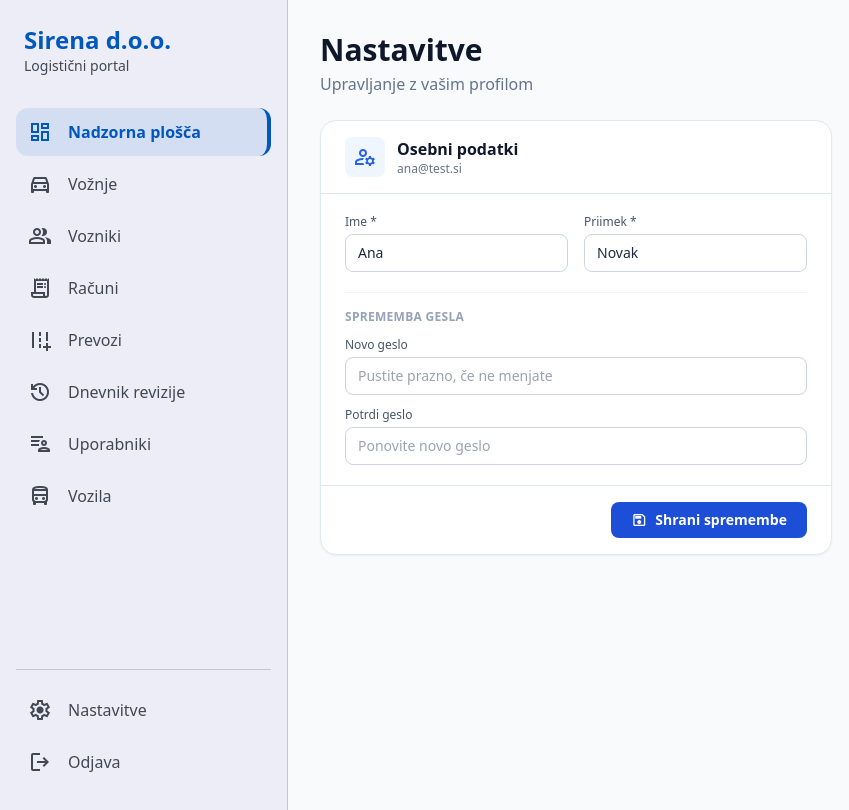
Test: Nastavitve – validacija obrazca › uspešno shrani spremembe
Replace the text in the field showing "Ana" below "Ime *" with "Maja" at (456, 253), box top-left (345, 234), bottom-right (568, 272)
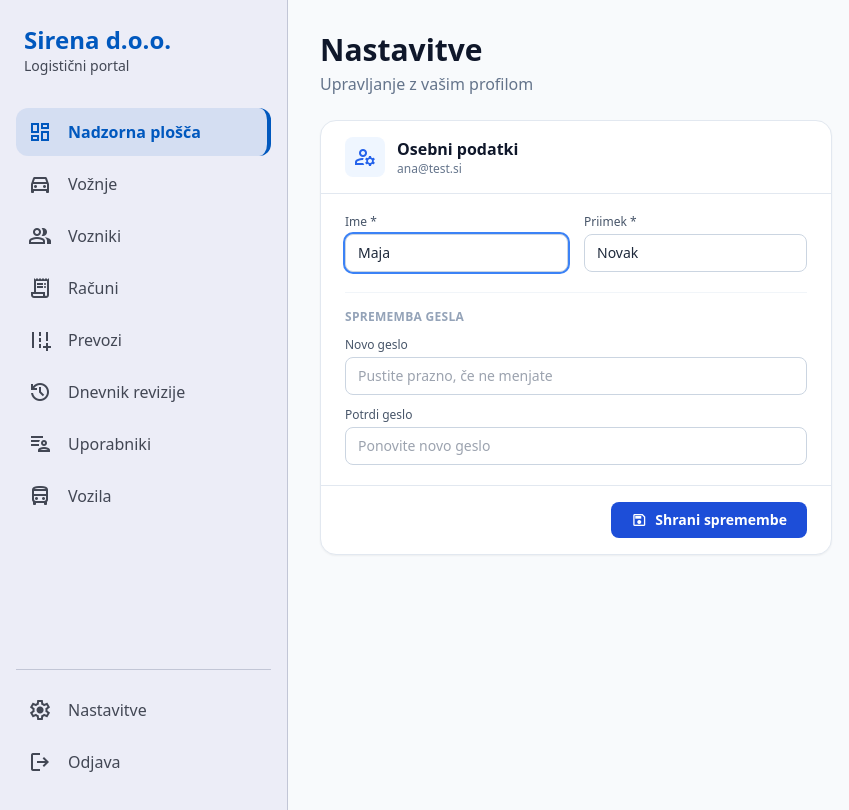
Click the button "Shrani spremembe" at (709, 520), box top-left (611, 502), bottom-right (807, 538)
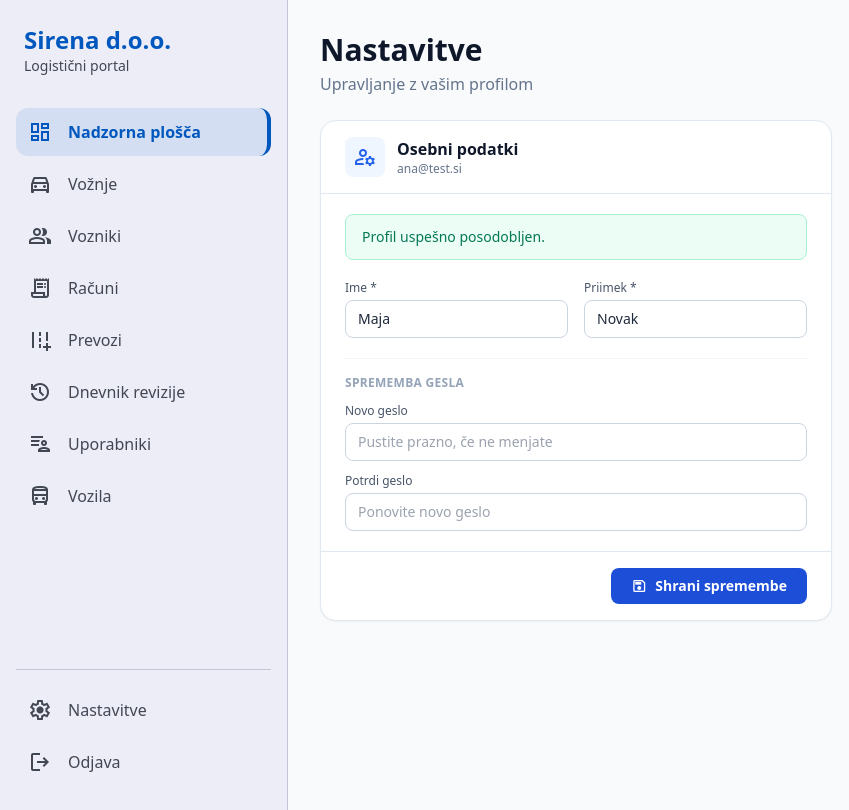
Now the text "Profil uspešno posodobljen." is shown, box top-left (345, 214), bottom-right (807, 260)
